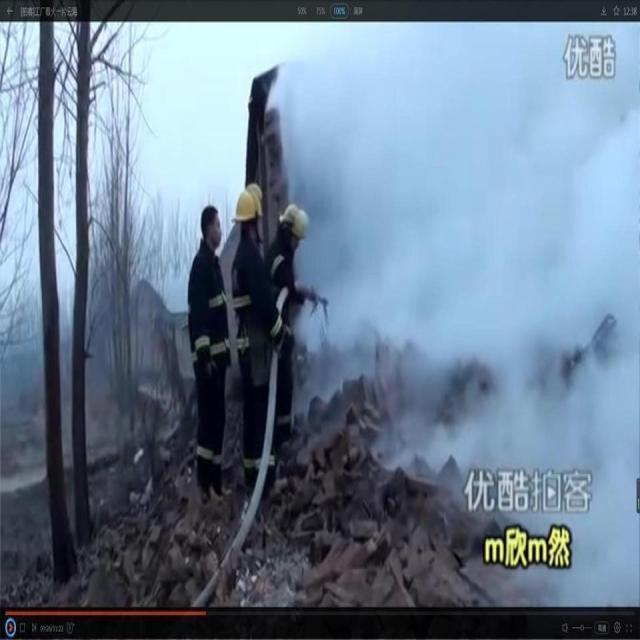Smoke: (266, 20, 640, 607)
